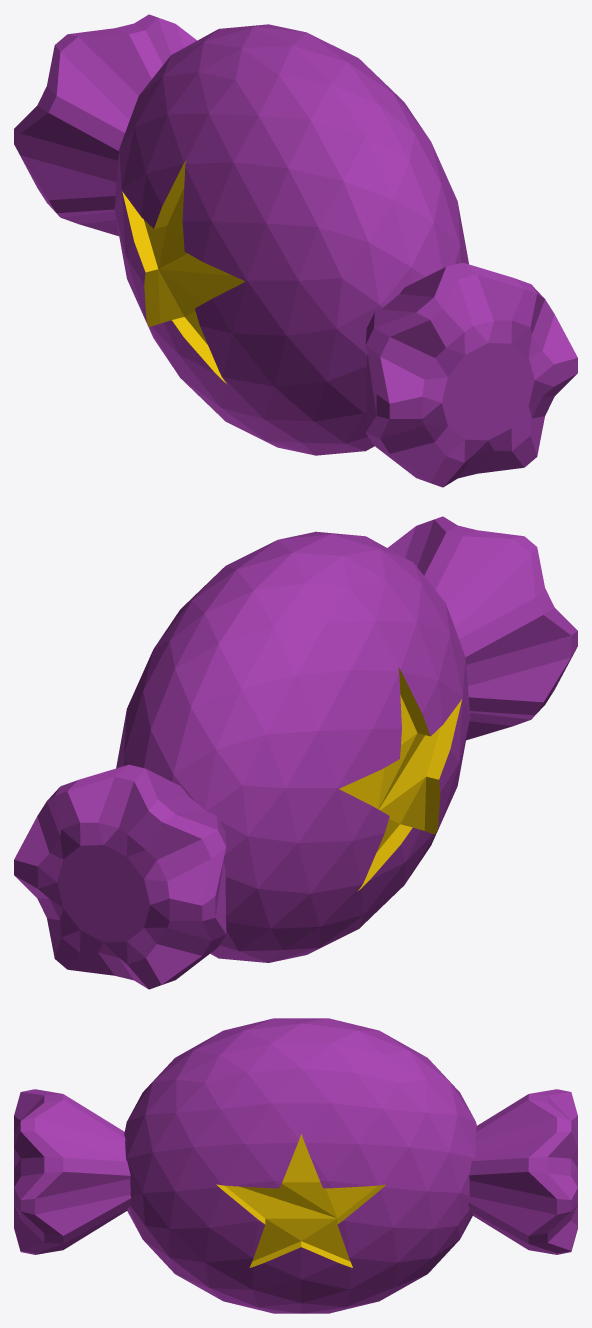
File: Candy 1.fbx
3 views of the same model, one above another, from view 1: azimuth 30°, elevation 25°; view 2: azimuth 150°, elevation 25°; view 3: azimuth 270°, elevation 25° (orthographic). The views are drawn at different scales.
Visible parts, largest first — view 1: Candy; view 2: Candy; view 3: Candy.
Part boxes in pixels (x1,y1,x2,y2): Candy: (14,14,577,487); Candy: (14,516,577,989); Candy: (14,1018,577,1313).
Bounding box in the file's own units: 96.49 × 145 × 261.
